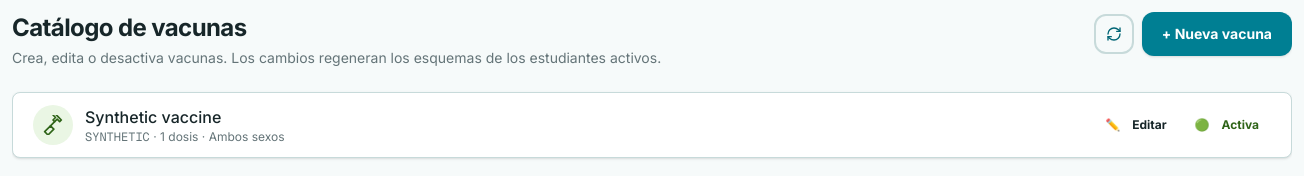
refreshes the populated catalog on explicit request
Check: the text "Synthetic vaccine" is shown, box [85,105,221,129]
Click the button named "Actualizar catálogo": {"x": 1114, "y": 34} [1094,14,1134,54]
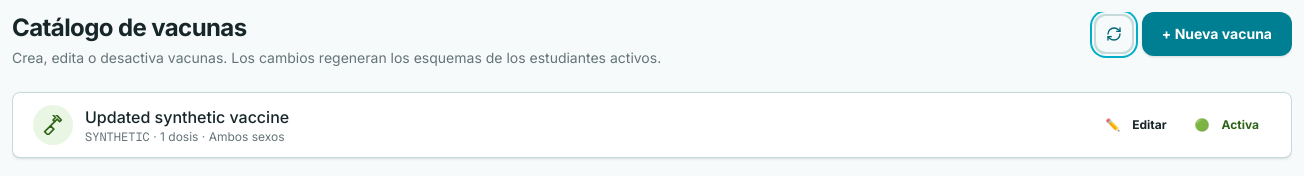
Check: the text "Updated synthetic vaccine" is shown, box [85,105,289,129]
